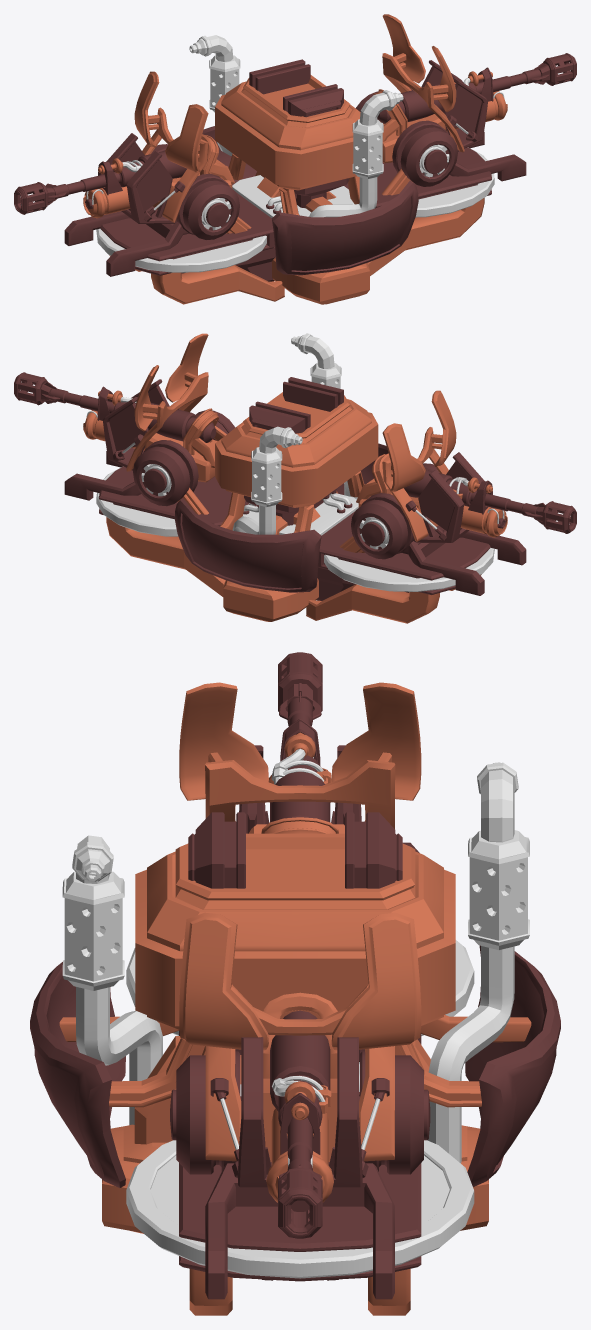
Rendered from side_gun_test_export_v003.fbx.
3 views of the same model, one above another, from view 1: azimuth 30°, elevation 25°; view 2: azimuth 150°, elevation 25°; view 3: azimuth 270°, elevation 25° (orthographic). The views are drawn at different scales.
Visible parts, largest first — view 1: gun_left_polySurface801, polySurface889, pCube235, polySurface776, pCube234, polySurface886, polySurface884, polySurface887, polySurface837, polySurface888, polySurface885, polySurface881; view 2: gun_left_polySurface801, polySurface889, polySurface776, pCube235, polySurface886, polySurface884, pCube234, polySurface887, polySurface837, polySurface888, polySurface885, polySurface881; view 3: polySurface889, polySurface776, polySurface884, pCube234, pCube235, polySurface886, polySurface885, gun_left_polySurface801, polySurface888, polySurface837.
Part boxes in pixels (left/top/right/bottom): gun_left_polySurface801: left=14, top=133, right=274, bottom=276; polySurface889: left=215, top=75, right=369, bottom=304; pCube235: left=202, top=59, right=418, bottom=275; polySurface776: left=344, top=53, right=576, bottom=208; pCube234: left=189, top=35, right=403, bottom=217; polySurface886: left=83, top=71, right=251, bottom=233; polySurface884: left=373, top=14, right=507, bottom=195; polySurface887: left=109, top=255, right=284, bottom=304; polySurface837: left=86, top=160, right=266, bottom=272; polySurface888: left=367, top=198, right=484, bottom=275; polySurface885: left=415, top=78, right=504, bottom=217; polySurface881: left=181, top=247, right=275, bottom=281; gun_left_polySurface801: left=318, top=452, right=576, bottom=595; polySurface889: left=215, top=392, right=378, bottom=621; polySurface776: left=14, top=372, right=249, bottom=526; pCube235: left=174, top=377, right=388, bottom=592; polySurface886: left=339, top=390, right=507, bottom=552; polySurface884: left=83, top=333, right=226, bottom=514; pCube234: left=232, top=333, right=358, bottom=535; polySurface887: left=306, top=574, right=481, bottom=623; polySurface837: left=324, top=477, right=504, bottom=591; polySurface888: left=106, top=517, right=225, bottom=596; polySurface885: left=86, top=397, right=178, bottom=536; polySurface881: left=316, top=567, right=409, bottom=600; polySurface889: left=59, top=833, right=531, bottom=1233; polySurface776: left=170, top=1010, right=430, bottom=1299; polySurface884: left=179, top=912, right=421, bottom=1202; pCube234: left=62, top=762, right=529, bottom=1163; pCube235: left=30, top=812, right=560, bottom=1187; polySurface886: left=179, top=682, right=421, bottom=833; polySurface885: left=126, top=1076, right=474, bottom=1278; gun_left_polySurface801: left=179, top=652, right=421, bottom=1044; polySurface888: left=189, top=1268, right=410, bottom=1315; polySurface837: left=126, top=748, right=474, bottom=1035.
Bounding box in the file's own units: 130 × 47.56 × 53.95.
